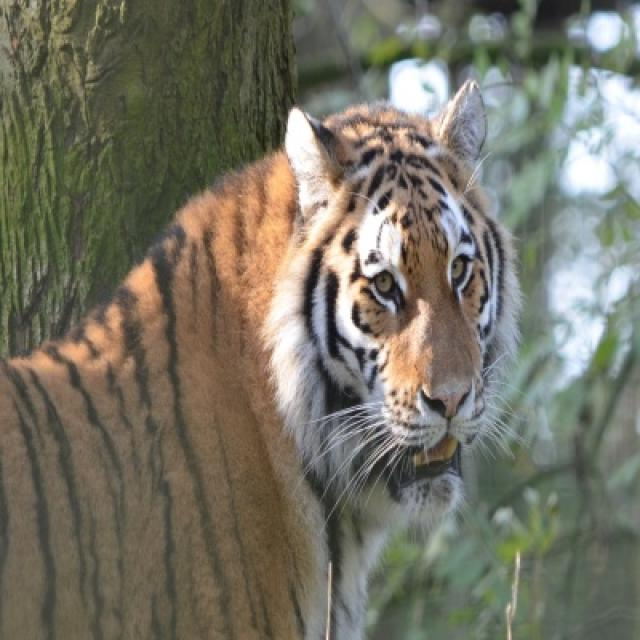Tiger: (9, 83, 510, 638)
